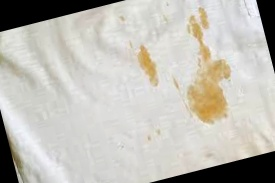coffee: (185, 77, 235, 129), (192, 51, 234, 85), (132, 42, 161, 89), (187, 12, 211, 60), (196, 3, 212, 29)
